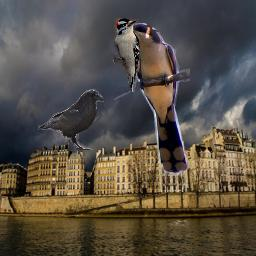Crow: (38, 89, 104, 150)
Cuckoo: (114, 23, 190, 176)
Woodpecker: (113, 18, 140, 93)
